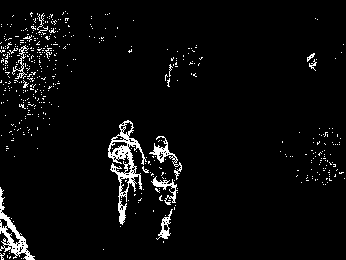person: (107, 116, 149, 227), (152, 132, 185, 239)
